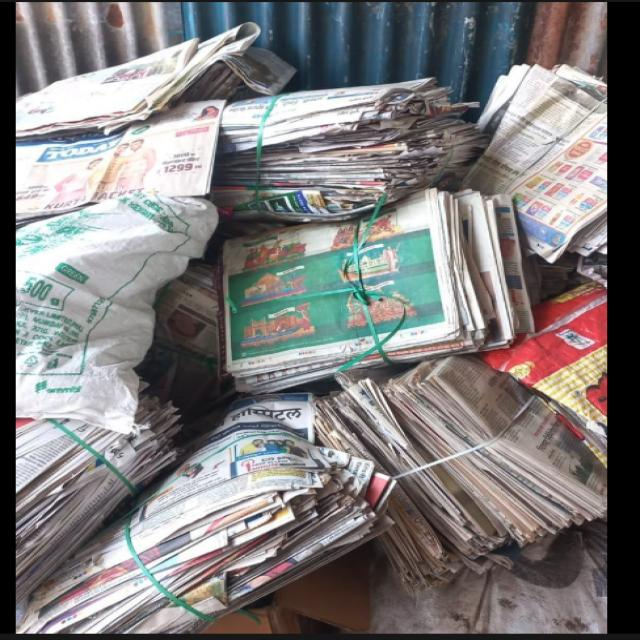Koran: (13, 12, 609, 634), (70, 394, 390, 624), (318, 348, 607, 572), (218, 192, 537, 374), (212, 76, 484, 236)
